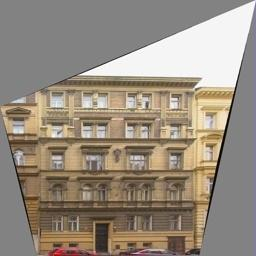building: (29, 64, 198, 256)
